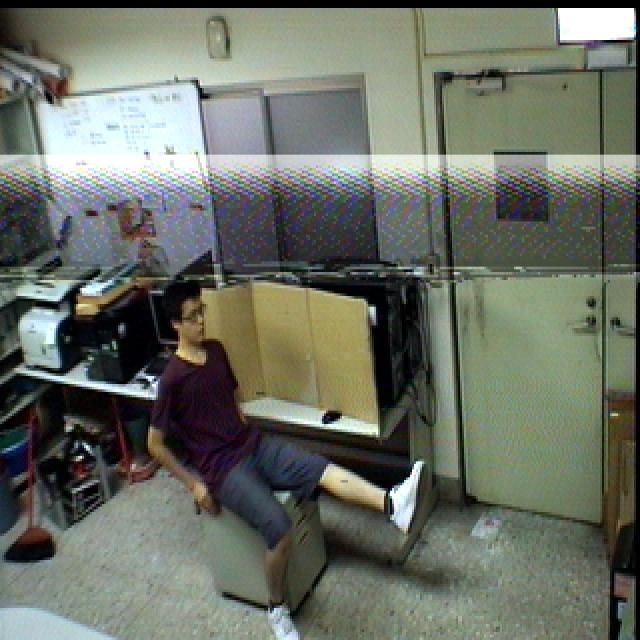sit: (140, 274, 436, 640)
